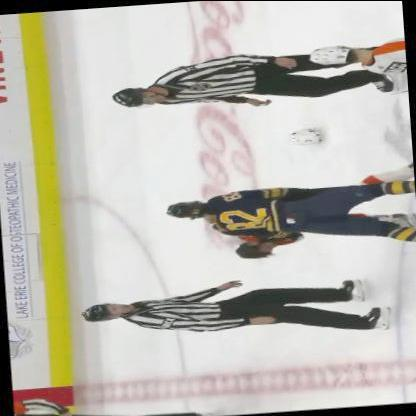non-Voilence: (78, 276, 388, 349), (110, 42, 396, 114)
voilence: (159, 163, 415, 266)
